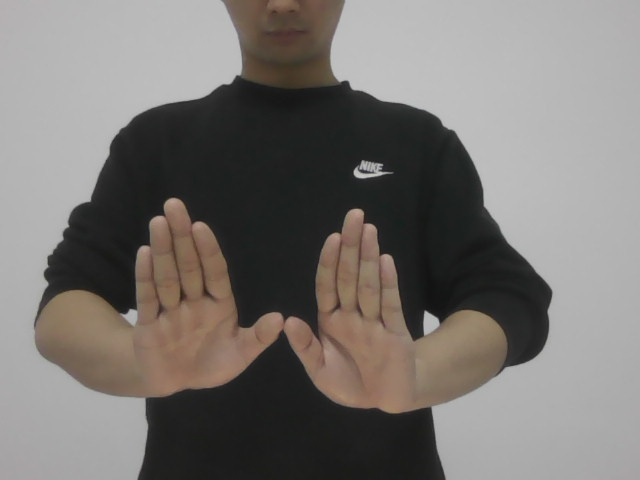door: (133, 181, 430, 414)
